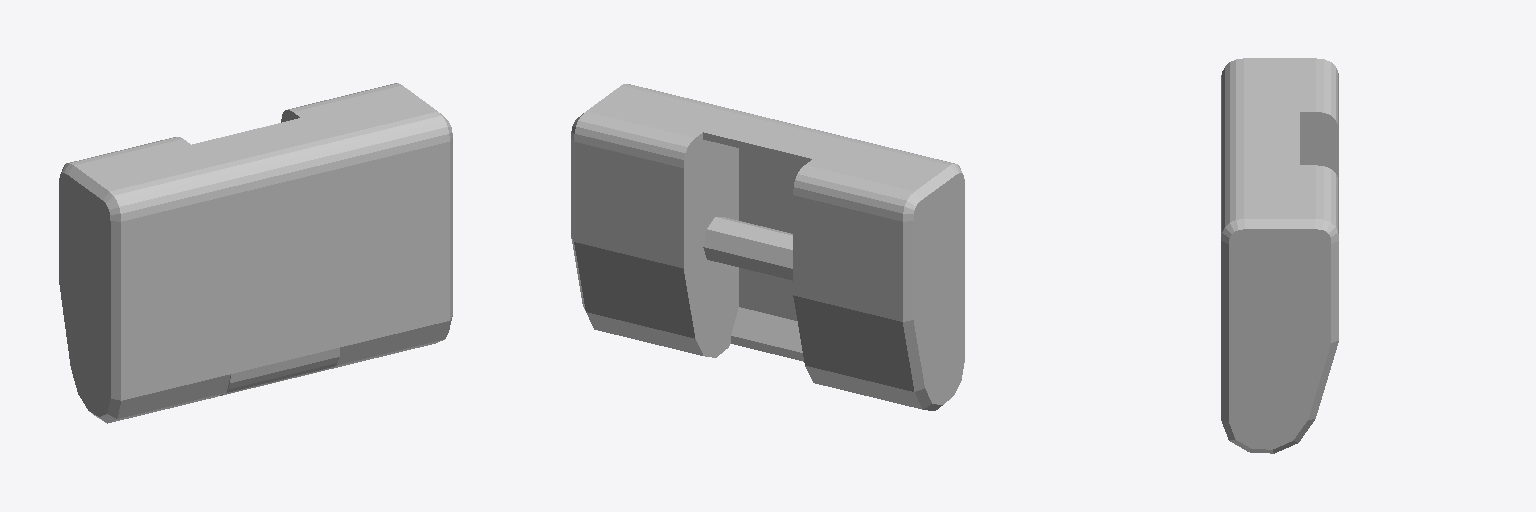
The model's file is BDD_Tilt.obj.
3 views of the same model, side by side, from view 1: azimuth 30°, elevation 25°; view 2: azimuth 150°, elevation 25°; view 3: azimuth 270°, elevation 25° (orthographic).
Visible parts, largest first — view 1: Line16, Line22, Line23; view 2: Line16, Line22, Line23, HeadTilt; view 3: Line22, Line16, Line23.
Boxes of the visible parts, box(x1,y1,x2,y2) form: Line16: box(59, 137, 230, 423); Line22: box(281, 83, 452, 368); Line23: box(192, 118, 339, 395); Line16: box(793, 137, 964, 410); Line22: box(571, 84, 738, 357); Line23: box(703, 110, 843, 361); HeadTilt: box(703, 217, 792, 280); Line22: box(1221, 165, 1338, 453); Line16: box(1221, 58, 1338, 179); Line23: box(1221, 112, 1299, 181).
Size of the model in its own units: 0.5 by 0.328 by 0.15.